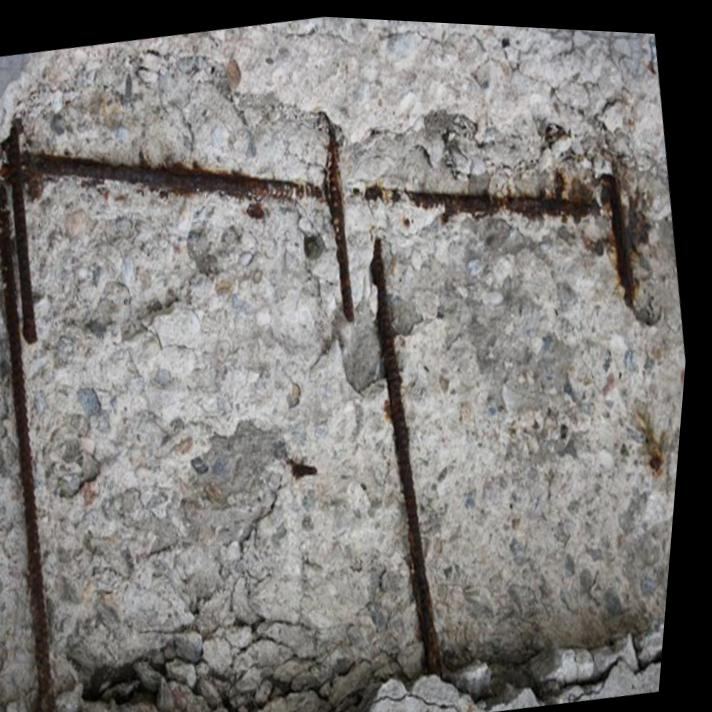crack: (387, 688, 477, 710)
damage: (0, 16, 691, 712)
